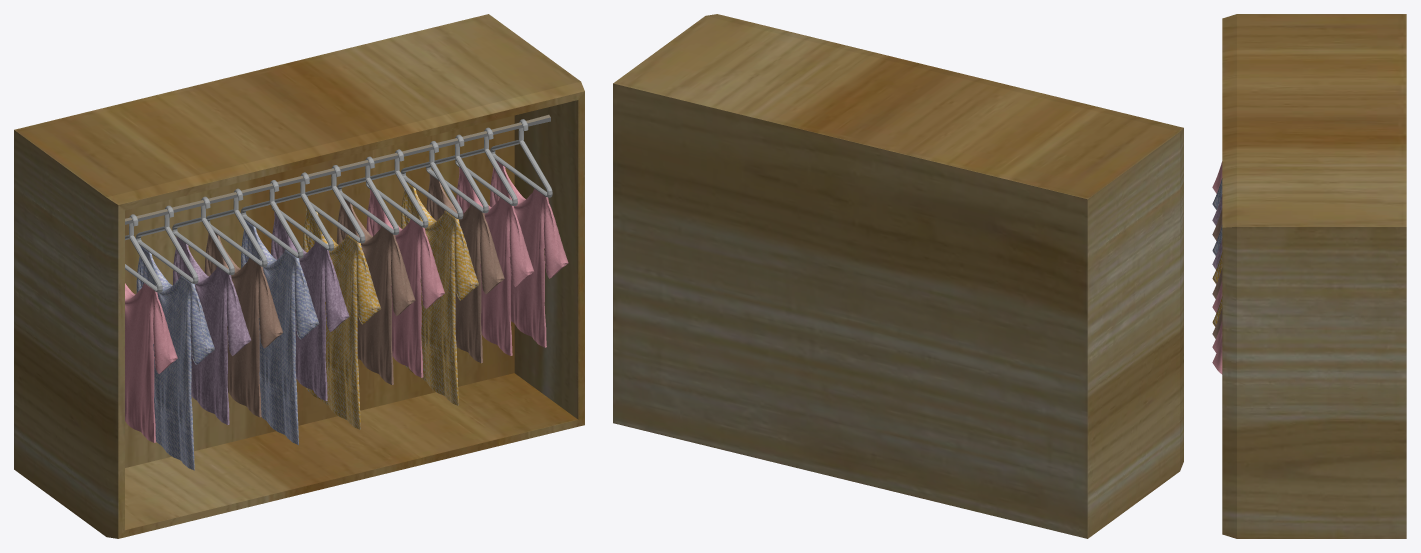
Rendered from wardrobe-transformed.glb.
3 renders of one model, left to right at view 1: azimuth 30°, elevation 25°; view 2: azimuth 150°, elevation 25°; view 3: azimuth 270°, elevation 25°, orthographic. The views are drawn at different scales.
Visible parts, largest first — view 1: wardrobe_Material.001_0, shirt8_tshirt_red_0, shirt4_tshirt_brown_0, shirtl2_shirtLblue_0, shirtl4_tshirtLyellow_0, hanger 1_hanger1_0, shirt3_tshirt_purple_0; view 2: wardrobe_Material.001_0; view 3: wardrobe_Material.001_0, shirt8_tshirt_red_0, shirt4_tshirt_brown_0, shirtl2_shirtLblue_0, shirt3_tshirt_purple_0, shirtl4_tshirtLyellow_0.
Boxes of the visible parts, left/top/right/bottom form: wardrobe_Material.001_0: left=14, top=14, right=584, bottom=538; shirt8_tshirt_red_0: left=125, top=160, right=568, bottom=442; shirt4_tshirt_brown_0: left=204, top=174, right=504, bottom=417; shirtl2_shirtLblue_0: left=136, top=219, right=319, bottom=470; shirtl4_tshirtLyellow_0: left=302, top=182, right=479, bottom=429; hanger 1_hanger1_0: left=125, top=119, right=552, bottom=292; shirt3_tshirt_purple_0: left=173, top=212, right=349, bottom=424; wardrobe_Material.001_0: left=613, top=14, right=1183, bottom=538; wardrobe_Material.001_0: left=1222, top=14, right=1406, bottom=538; shirt8_tshirt_red_0: left=1212, top=161, right=1222, bottom=374; shirt4_tshirt_brown_0: left=1212, top=208, right=1222, bottom=338; shirtl2_shirtLblue_0: left=1212, top=178, right=1222, bottom=255; shirt3_tshirt_purple_0: left=1212, top=194, right=1222, bottom=269; shirtl4_tshirtLyellow_0: left=1212, top=252, right=1222, bottom=326.
Bounding box in the file's own units: 14.04 × 9.6 × 5.42.
Materials: 7 (6 with a texture image).
